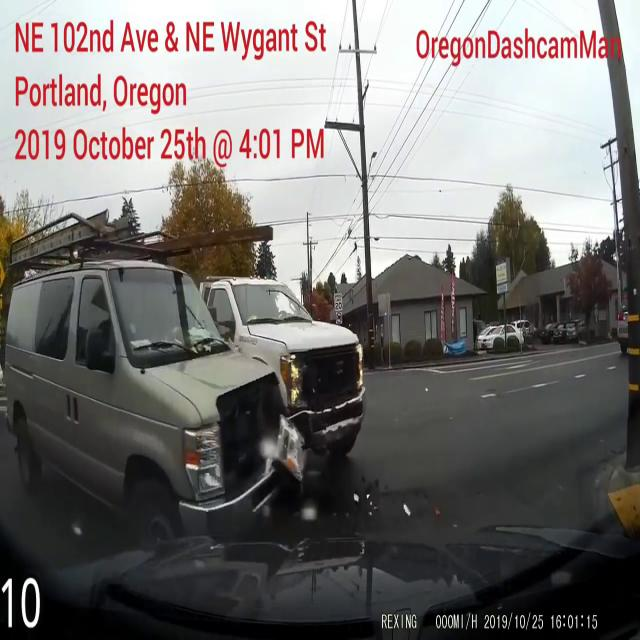accident: (100, 271, 384, 522)
